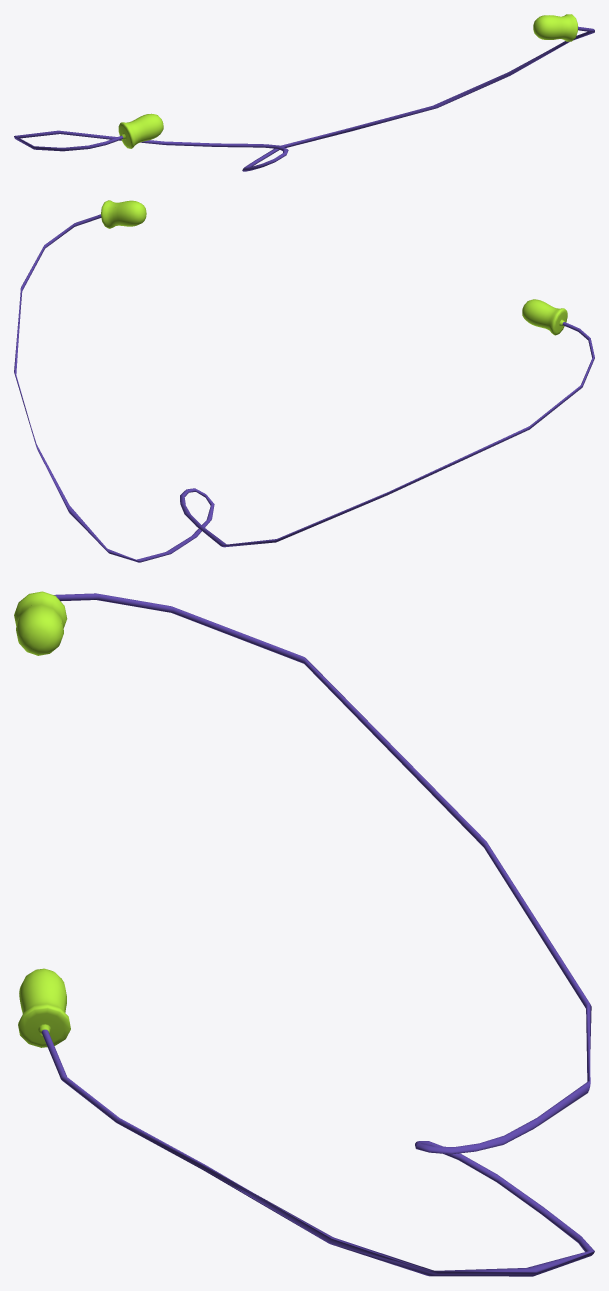
The model's file is earplug.fbx.
The picture shows the model from 3 angles, top to bottom: view 1: azimuth 30°, elevation 25°; view 2: azimuth 150°, elevation 25°; view 3: azimuth 270°, elevation 25°; orthographic projection. The views are drawn at different scales.
Visible parts, largest first — view 1: earplug; view 2: earplug; view 3: earplug.
Boxes of the visible parts, box(x1,y1,x2,y2) form: earplug: box(14, 14, 594, 171); earplug: box(14, 200, 594, 562); earplug: box(14, 591, 594, 1276).
Size of the model in its own units: 26.68 by 10.07 by 13.07.
2 materials, 2 textured.
